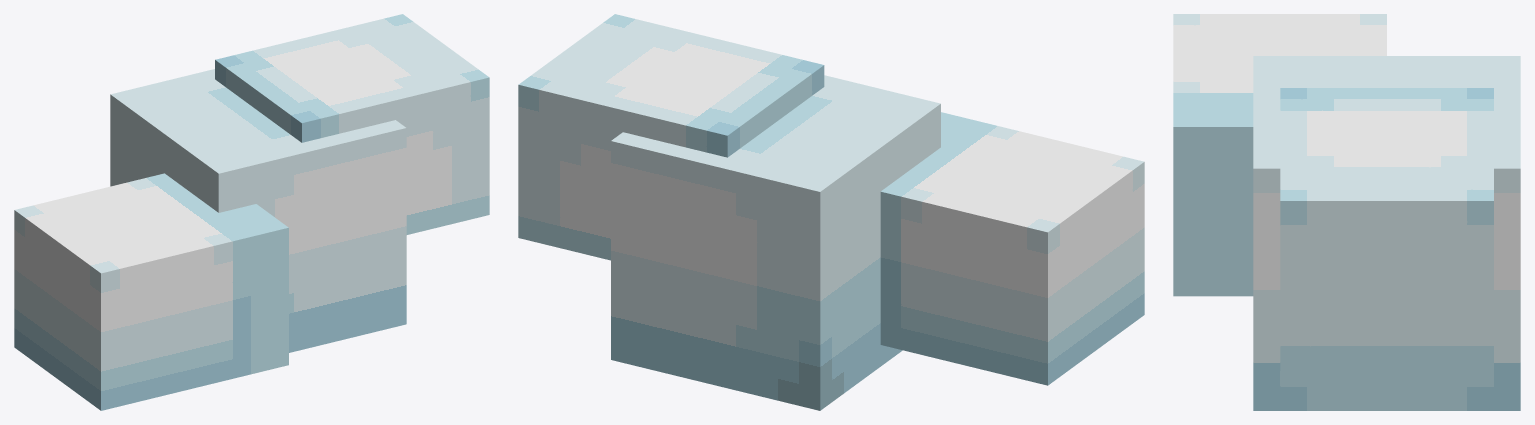
File: medium-cloud.gltf
3 views of the same model, side by side, from view 1: azimuth 30°, elevation 25°; view 2: azimuth 150°, elevation 25°; view 3: azimuth 270°, elevation 25° (orthographic). The views are drawn at different scales.
Parts seen in each view (by area): view 1: cube (×3); view 2: cube (×3); view 3: cube (×3).
Boxes of the visible parts, x1=… form: cube (×3): x1=14, y1=14, x2=489, y2=410; cube (×3): x1=518, y1=14, x2=1144, y2=410; cube (×3): x1=1173, y1=14, x2=1520, y2=410.
Bounding box in the file's own units: 1.44 × 0.6875 × 0.8125.
Materials: 1 (1 with a texture image).
